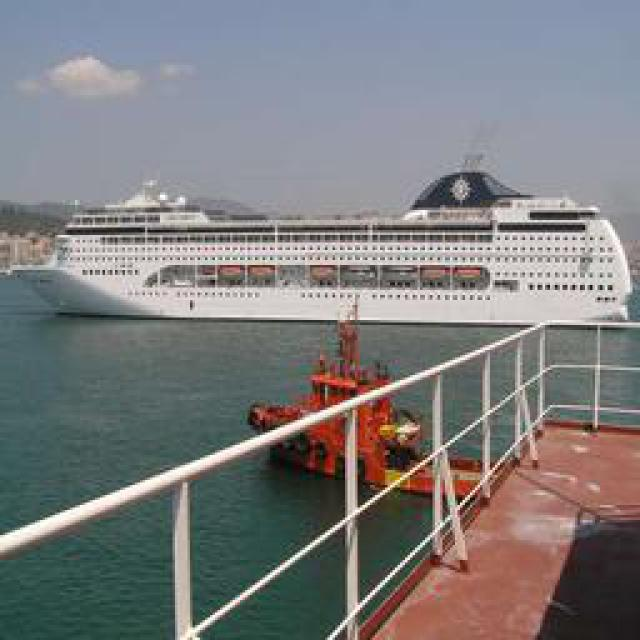Ship: (32, 180, 630, 343)
